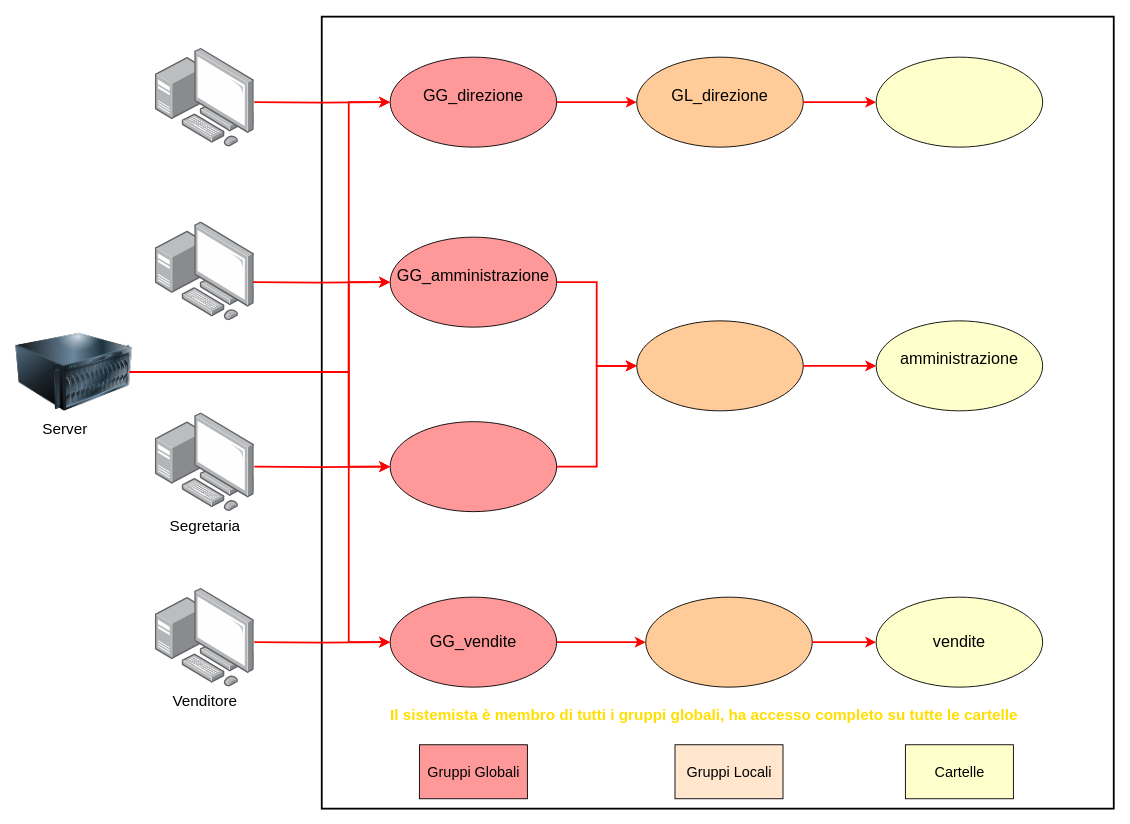
This 1130x824 diagram has some shape labels left out. Each missing label, with the centre of its shape:
Amministratore: pixel 204 270
Direttore: pixel 204 97
direzione: pixel 959 101
GG_segreteria: pixel 473 466
GL_amministrazione: pixel 719 365
GL_vendite: pixel 728 641
